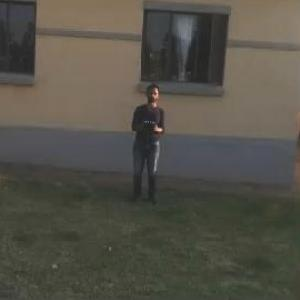follow: (126, 75, 168, 209)
